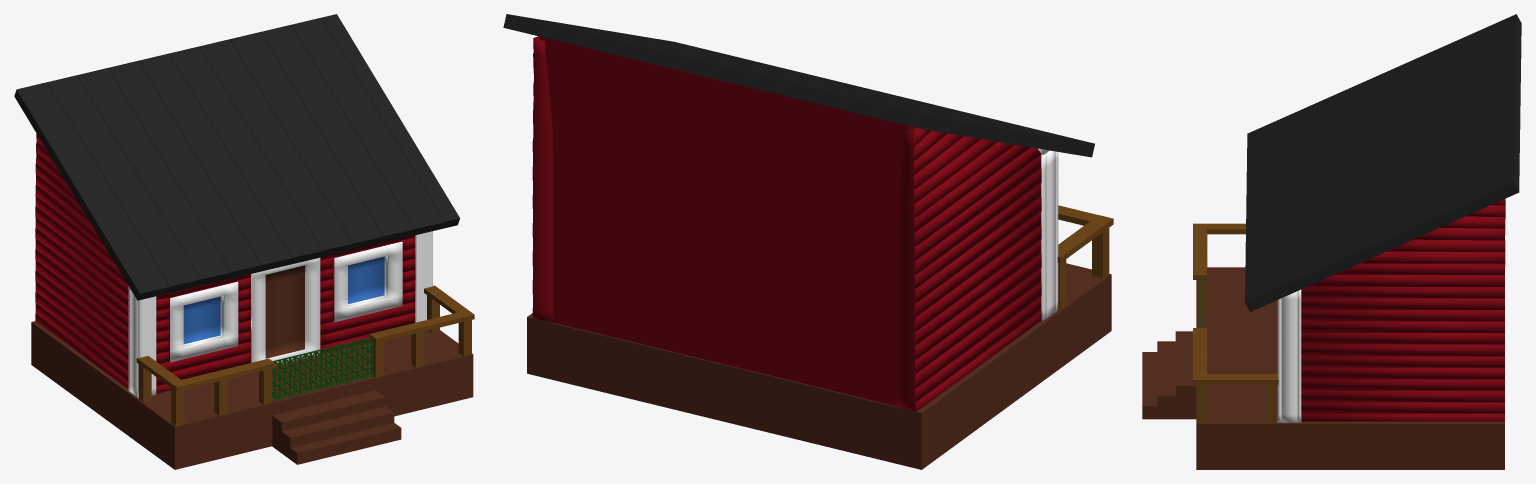
File: House.fbx
3 views of the same model, side by side, from view 1: azimuth 30°, elevation 25°; view 2: azimuth 150°, elevation 25°; view 3: azimuth 270°, elevation 25° (orthographic). The views are drawn at different scales.
Visible parts, largest first — view 1: Cube.001, Cube.003, Cube, Cube.002, Cube.004, Plane.001, Cube.005; view 2: Plane, Cube.002, Cube.003, Cube.001, Cube.005, Cube.004; view 3: Cube.001, Cube.002, Cube.003, Cube.005, Cube.004.
Part boxes in pixels (<box>): Cube.001: <box>14,14,459,300</box>; Cube.003: <box>31,321,473,469</box>; Cube: <box>156,235,416,393</box>; Cube.002: <box>35,133,432,397</box>; Cube.004: <box>138,295,471,426</box>; Plane.001: <box>272,337,373,400</box>; Cube.005: <box>136,285,474,391</box>; Plane: <box>540,36,913,406</box>; Cube.002: <box>532,36,1058,411</box>; Cube.003: <box>527,263,1111,469</box>; Cube.001: <box>503,14,1094,157</box>; Cube.005: <box>1057,205,1113,262</box>; Cube.004: <box>1058,228,1109,310</box>; Cube.001: <box>1245,14,1521,311</box>; Cube.002: <box>1277,199,1505,422</box>; Cube.003: <box>1142,267,1504,469</box>; Cube.005: <box>1193,223,1278,384</box>; Cube.004: <box>1197,234,1275,423</box>.
Size of the model in its own units: 1567 by 1491 by 1279.
